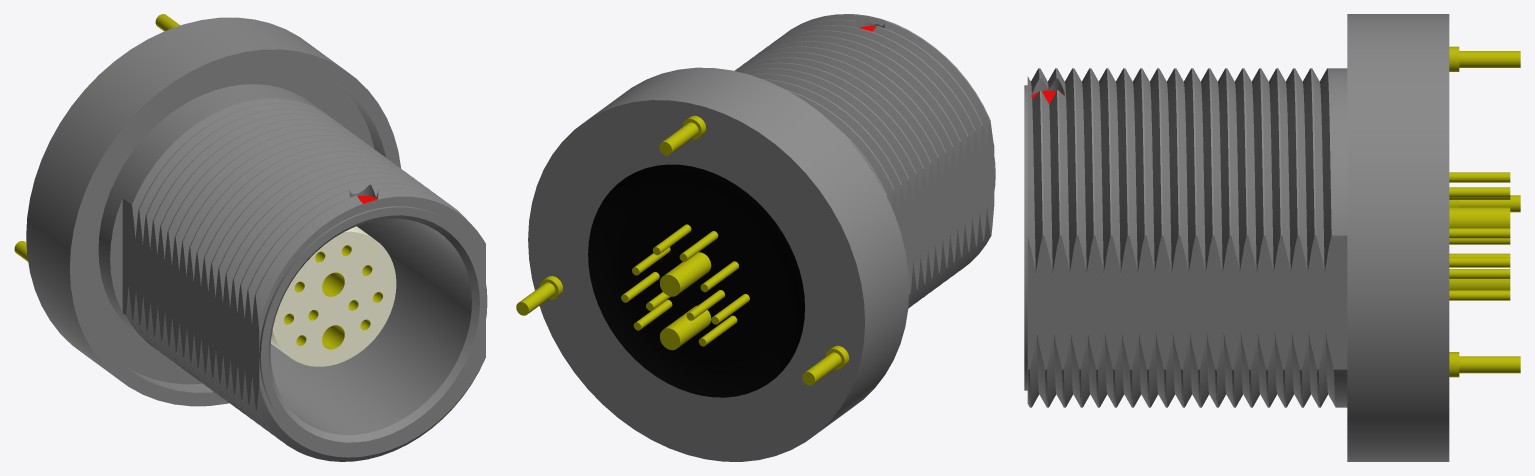
File: GC0WxM_P12UM00_000L_MTi_6x0R_simple_2__MTi_6x0R_simple.gltf
3 renders of one model, left to right at view 1: azimuth 30°, elevation 25°; view 2: azimuth 150°, elevation 25°; view 3: azimuth 270°, elevation 25°, orthographic. The views are drawn at different scales.
Parts seen in each view (by area): view 1: mesh16129, mesh16258, mesh16250, mesh16255, mesh16104, mesh16257, mesh16254, mesh16131, mesh16130, mesh16133, mesh16134, mesh16196 (+22 smaller); view 2: mesh16259, mesh16258, mesh16260, mesh16273, mesh16250, mesh16212, mesh16206, mesh16215, mesh16221, mesh16218, mesh16209, mesh16224 (+12 smaller); view 3: mesh16258, mesh16252, mesh16254, mesh16204, mesh16207, mesh16210, mesh16213, mesh16216, mesh16219, mesh16237, mesh16225, mesh16234 (+39 smaller).
Part boxes in pixels (x1,y1,x2,y2): mesh16129: [270, 218, 471, 434]; mesh16258: [26, 17, 342, 377]; mesh16250: [122, 198, 259, 410]; mesh16255: [82, 63, 374, 384]; mesh16104: [272, 231, 396, 366]; mesh16257: [70, 49, 401, 406]; mesh16254: [98, 84, 324, 345]; mesh16131: [261, 207, 487, 450]; mesh16130: [268, 215, 479, 442]; mesh16133: [259, 196, 485, 352]; mesh16134: [259, 321, 485, 457]; mesh16196: [255, 195, 362, 329]; mesh16259: [528, 100, 864, 461]; mesh16258: [589, 67, 909, 431]; mesh16260: [588, 164, 804, 397]; mesh16273: [619, 190, 782, 365]; mesh16250: [886, 120, 994, 294]; mesh16212: [755, 36, 960, 175]; mesh16206: [770, 25, 974, 164]; mesh16215: [747, 41, 952, 181]; mesh16221: [734, 52, 937, 191]; mesh16218: [740, 47, 945, 187]; mesh16209: [762, 30, 967, 169]; mesh16224: [735, 57, 930, 196]; mesh16258: [1347, 14, 1449, 461]; mesh16252: [1027, 235, 1347, 369]; mesh16254: [1327, 68, 1347, 407]; mesh16204: [1065, 68, 1076, 272]; mesh16207: [1082, 68, 1093, 272]; mesh16210: [1099, 68, 1110, 272]; mesh16213: [1116, 68, 1127, 272]; mesh16216: [1133, 68, 1144, 272]; mesh16219: [1150, 68, 1161, 272]; mesh16237: [1252, 68, 1263, 271]; mesh16225: [1184, 68, 1195, 271]; mesh16234: [1235, 68, 1246, 271].
Size of the model in its own units: 0.0132 by 0.0132 by 0.0146.
